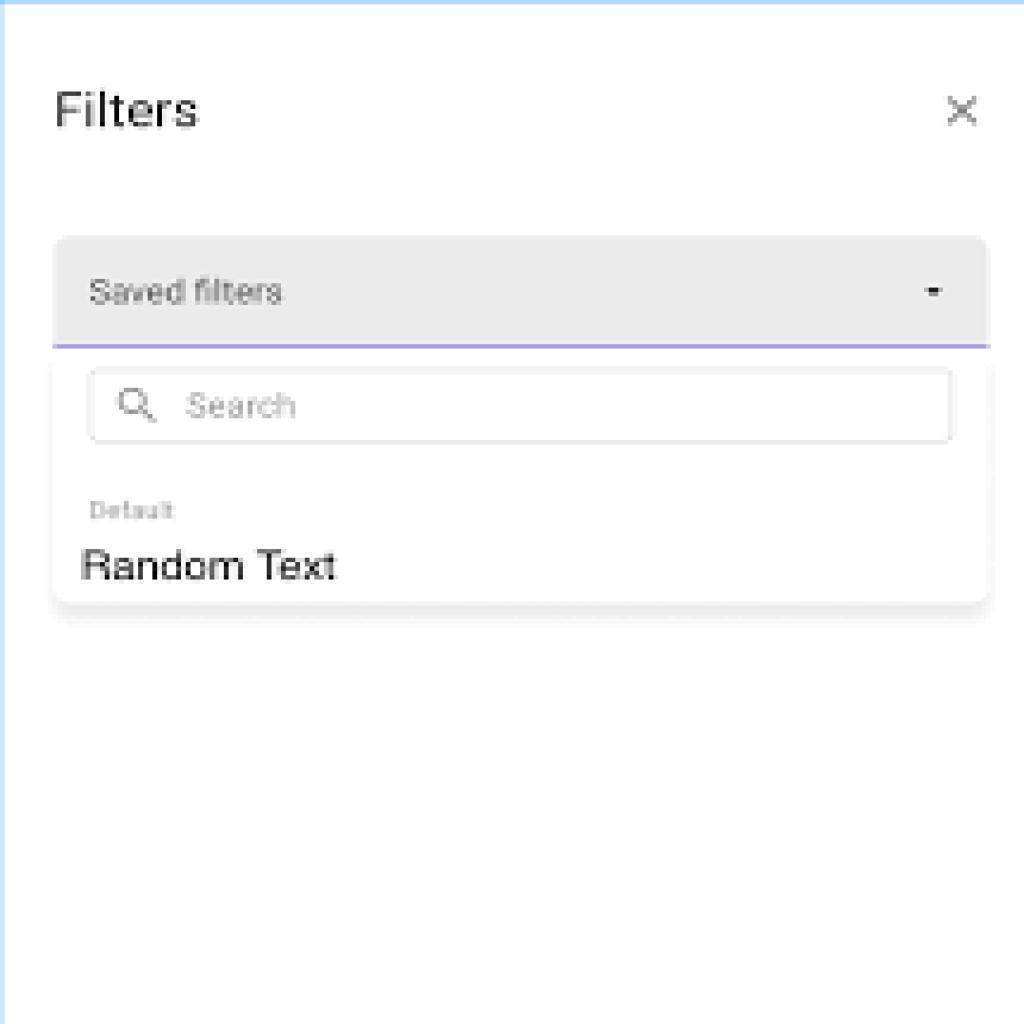dropdown: (57, 238, 988, 347)
input: (90, 368, 954, 445)
